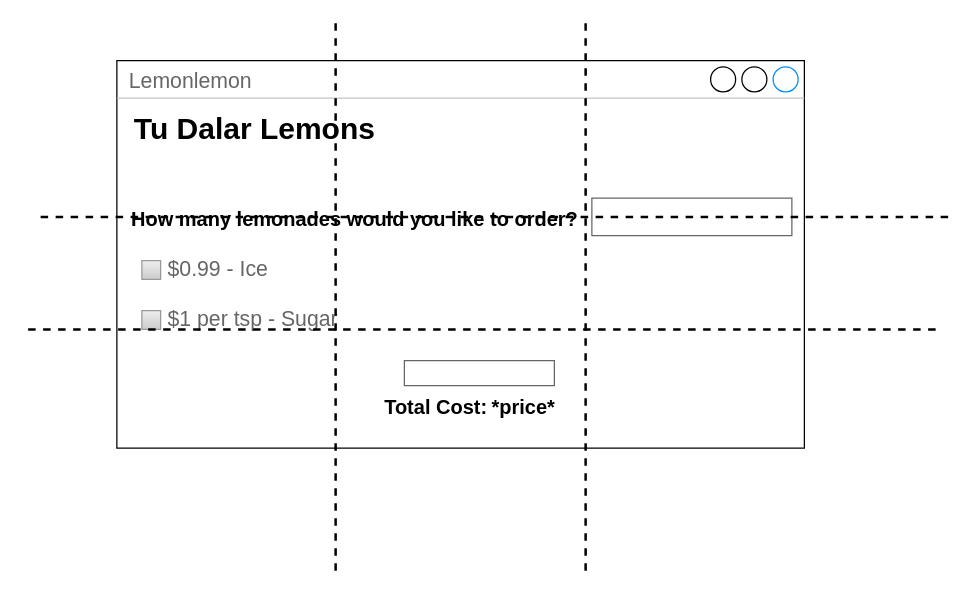
Some shapes in this 970 by 595 pixel diagram are drawn without their labels. Here are the shapes that lost their labels. From the top down, the centre of each, then its label:
At (691,216): "Amount".
At (478,372): "Calculate total".
